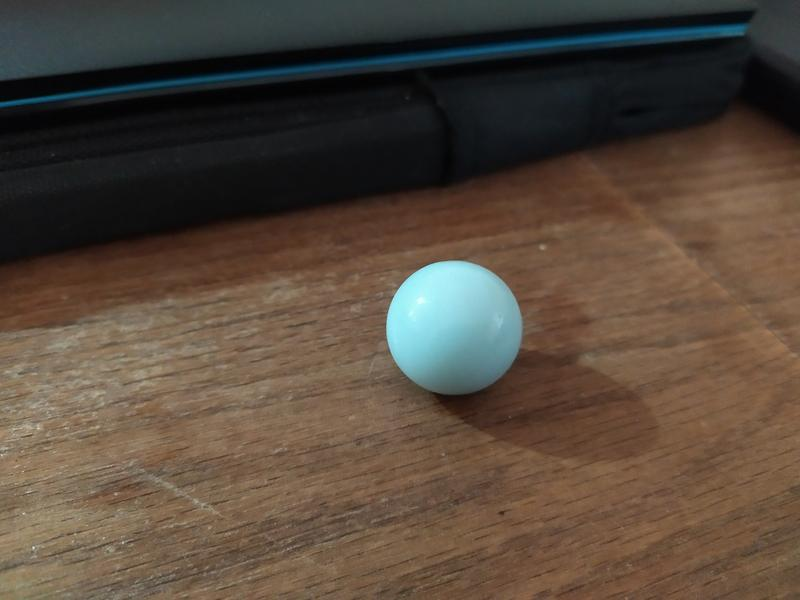Warning: (382, 256, 528, 399)
